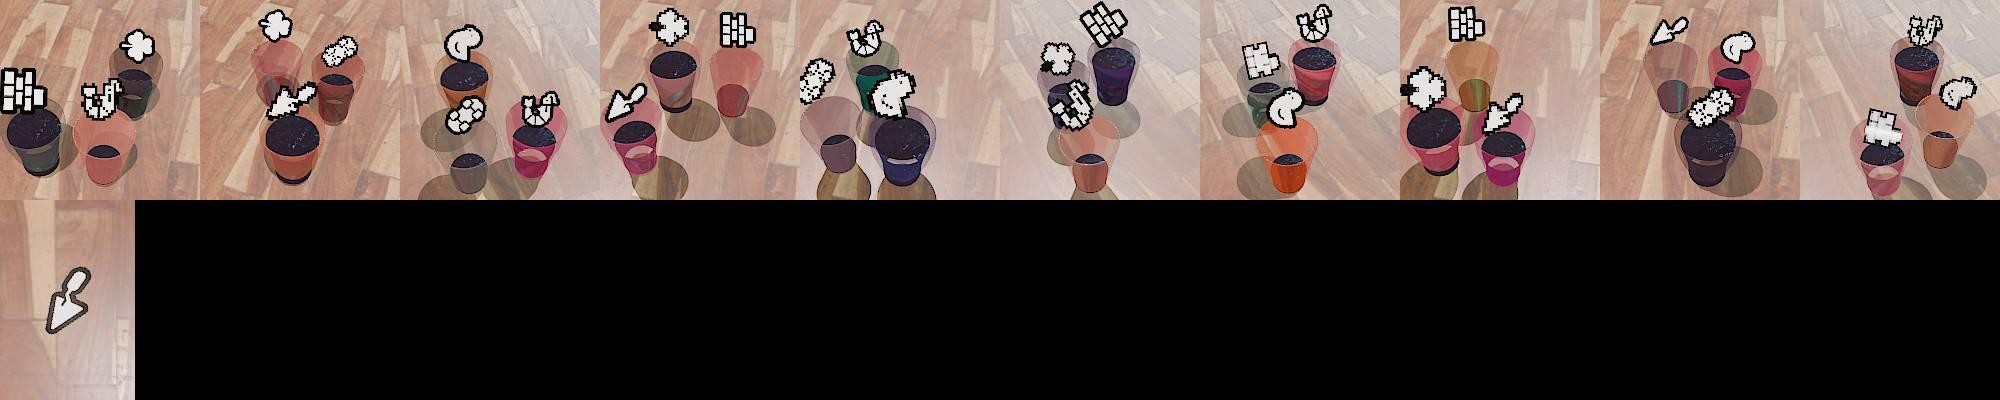icon: (47, 265, 96, 335), (867, 69, 917, 118), (1047, 79, 1093, 131), (0, 66, 48, 115), (1402, 65, 1448, 113), (1079, 1, 1128, 47), (264, 80, 318, 121), (1685, 85, 1736, 127), (1482, 92, 1526, 135), (605, 80, 649, 122), (79, 78, 124, 120), (796, 56, 834, 104), (445, 93, 487, 135), (1242, 39, 1283, 82), (649, 6, 690, 47), (1265, 87, 1305, 129), (1862, 106, 1902, 148), (443, 23, 485, 62), (717, 11, 758, 50), (520, 89, 560, 127), (1448, 5, 1486, 45), (1295, 4, 1332, 45), (1937, 75, 1978, 111), (847, 19, 884, 57), (319, 34, 358, 69), (1040, 41, 1077, 76), (119, 28, 156, 64), (1906, 13, 1944, 47), (1718, 31, 1756, 64), (258, 9, 293, 43), (1649, 15, 1689, 46)
